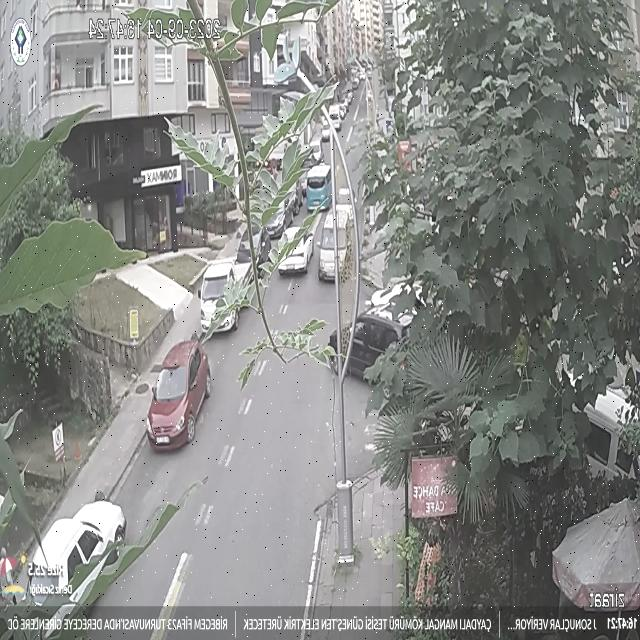car: (142, 336, 210, 458)
